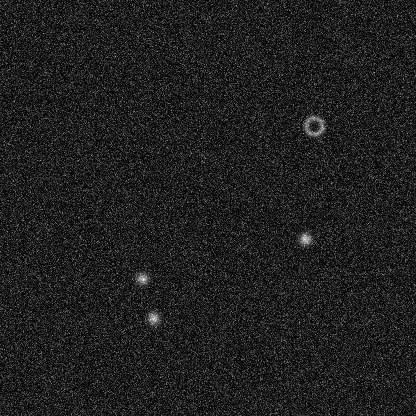Ring: (301, 113, 325, 137)
Spot: (134, 270, 150, 286), (297, 231, 313, 247), (145, 310, 161, 326)
